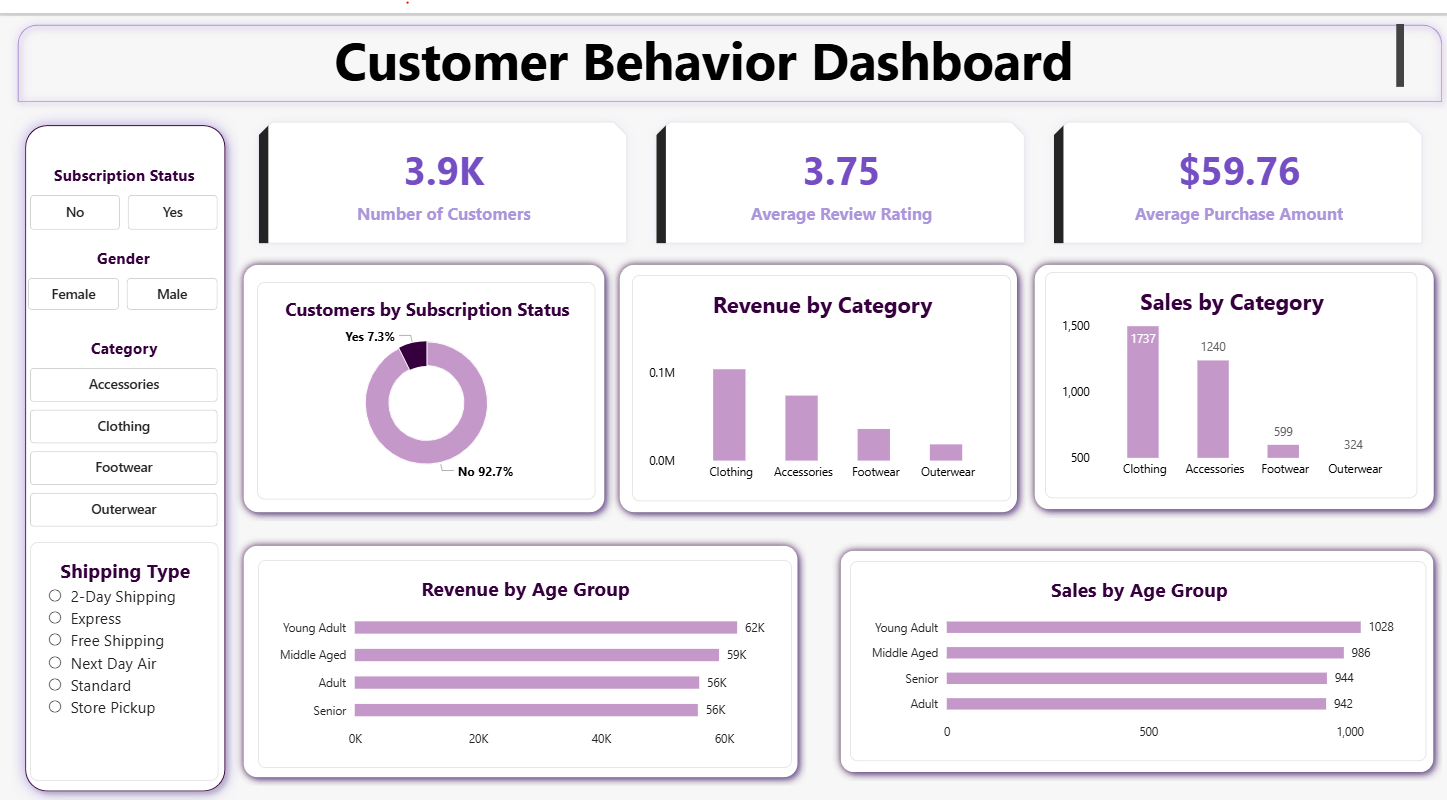

Layout of this report page (visuals, bound fields, positions):
{"tool":"powerbi","page":{"name":"Page 1","canvas":[1500,820],"ordinal":0},"visuals":[{"type":"shape","box":[243.3,248,390.9,274],"z":0,"group":"g4"},{"type":"shape","box":[243.3,538.6,590.6,257.5],"z":0,"group":"g3"},{"type":"cardVisual","fields":{"Data":["customer_behaviour customer_shopping.Number of Customers","customer_behaviour customer_shopping.Average Review Rating","customer_behaviour customer_shopping.Average Purchase Amount"]},"box":[256.3,98,1226,148.8],"z":1000},{"type":"donutChart","title":"Customers by Subscription Status","fields":{"Category":["customer_behaviour customer_shopping.subscription_status"],"Y":["Sum(customer_behaviour customer_shopping.customer_id)"]},"box":[265.9,274.9,350.3,225.1],"z":1000,"group":"g4"},{"type":"shape","box":[9.4,0,1490.6,98],"z":2000},{"type":"textbox","box":[12.3,8.2,1438.7,68.1],"z":3000},{"type":"shape","box":[1060.6,248,430.5,270.9],"z":4000,"group":"g2"},{"type":"shape","box":[631.9,248,428.7,274],"z":5000,"group":"g1"},{"type":"clusteredColumnChart","title":"Revenue by Category","fields":{"Category":["customer_behaviour customer_shopping.category"],"Y":["Sum(customer_behaviour customer_shopping.purchase_amount)"]},"box":[653.2,268.1,392.1,233.9],"z":7000,"group":"g1"},{"type":"clusteredColumnChart","title":"Sales by Category","fields":{"Category":["customer_behaviour customer_shopping.category"],"Y":["CountNonNull(customer_behaviour customer_shopping.customer_id)"]},"box":[1079.8,264.3,384.8,234.1],"z":8000,"group":"g2"},{"type":"shape","box":[11.8,98,236.2,718.1],"z":9000,"group":"g6"},{"type":"advancedSlicerVisual","title":"Subscription Status","fields":{"Values":["customer_behaviour customer_shopping.subscription_status"]},"box":[31.9,153.5,194.9,67.3],"z":10000,"group":"g6"},{"type":"advancedSlicerVisual","title":"Gender","fields":{"Values":["customer_behaviour customer_shopping.gender"]},"box":[29.7,239.7,197.2,65],"z":11000,"group":"g6"},{"type":"advancedSlicerVisual","title":"Category","fields":{"Values":["customer_behaviour customer_shopping.category"]},"box":[31.9,333,194.9,198.4],"z":12000,"group":"g6"},{"type":"listSlicer","title":"Shipping Type","fields":{"Values":["customer_behaviour customer_shopping.shipping_type"]},"box":[31.9,543.3,194.9,246.9],"z":13000,"group":"g6"},{"type":"clusteredBarChart","title":"Revenue by Age Group","fields":{"Category":["customer_behaviour customer_shopping.age_group"],"Y":["Sum(customer_behaviour customer_shopping.purchase_amount)"]},"box":[266.9,562.8,551.6,215.4],"z":14000,"group":"g3"},{"type":"shape","box":[859.8,543.3,630.7,246.9],"z":14001,"group":"g5"},{"type":"clusteredBarChart","title":"Sales by Age Group","fields":{"Category":["customer_behaviour customer_shopping.age_group"],"Y":["CountNonNull(customer_behaviour customer_shopping.customer_id)"]},"box":[878.5,563.2,596.5,206.5],"z":14002,"group":"g5"},{"type":"group","id":"g1","title":"Group 2","box":[631.9,248,428.7,274],"z":14003},{"type":"group","id":"g2","title":"Group 3","box":[1060.6,248,431.1,270.5],"z":14004},{"type":"group","id":"g3","title":"Group 4","box":[243.3,538.6,590.6,257.5],"z":14005},{"type":"group","id":"g4","title":"Group 1","box":[243.3,248,390.9,274],"z":14007},{"type":"group","id":"g5","title":"Group 5","box":[859.8,543.3,630.7,246.9],"z":14008},{"type":"group","id":"g6","title":"Group 6","box":[11.8,98,236.2,718.1],"z":14009}]}

Visuals, with their boxes in screenshot pixels (x1, y1, x2, y2), scaled from the page's 1500x820 canvas onto the 1447x800 screenshot:
shape: crop(235, 242, 612, 509)
shape: crop(235, 525, 804, 777)
cardVisual - customer_behaviour customer_shopping.Number of Customers x customer_behaviour customer_shopping.Average Review Rating: crop(247, 96, 1430, 241)
"Customers by Subscription Status" donutChart: crop(257, 268, 594, 488)
shape: crop(9, 0, 1446, 96)
textbox: crop(12, 8, 1400, 74)
shape: crop(1023, 242, 1438, 506)
shape: crop(610, 242, 1023, 509)
"Revenue by Category" clusteredColumnChart: crop(630, 262, 1008, 490)
"Sales by Category" clusteredColumnChart: crop(1042, 258, 1413, 486)
shape: crop(11, 96, 239, 796)
"Subscription Status" advancedSlicerVisual: crop(31, 150, 219, 215)
"Gender" advancedSlicerVisual: crop(29, 234, 219, 297)
"Category" advancedSlicerVisual: crop(31, 325, 219, 518)
"Shipping Type" listSlicer: crop(31, 530, 219, 771)
"Revenue by Age Group" clusteredBarChart: crop(257, 549, 790, 759)
shape: crop(829, 530, 1438, 771)
"Sales by Age Group" clusteredBarChart: crop(847, 549, 1423, 751)
"Group 2" group: crop(610, 242, 1023, 509)
"Group 3" group: crop(1023, 242, 1439, 506)
"Group 4" group: crop(235, 525, 804, 777)
"Group 1" group: crop(235, 242, 612, 509)
"Group 5" group: crop(829, 530, 1438, 771)
"Group 6" group: crop(11, 96, 239, 796)
